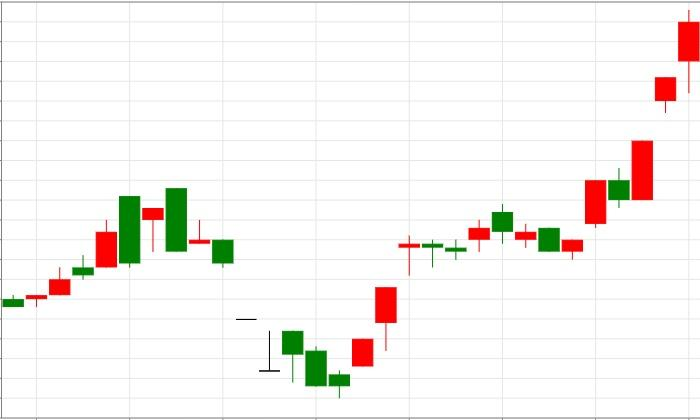bearish_engulfing_fall: (2, 188, 187, 308)
